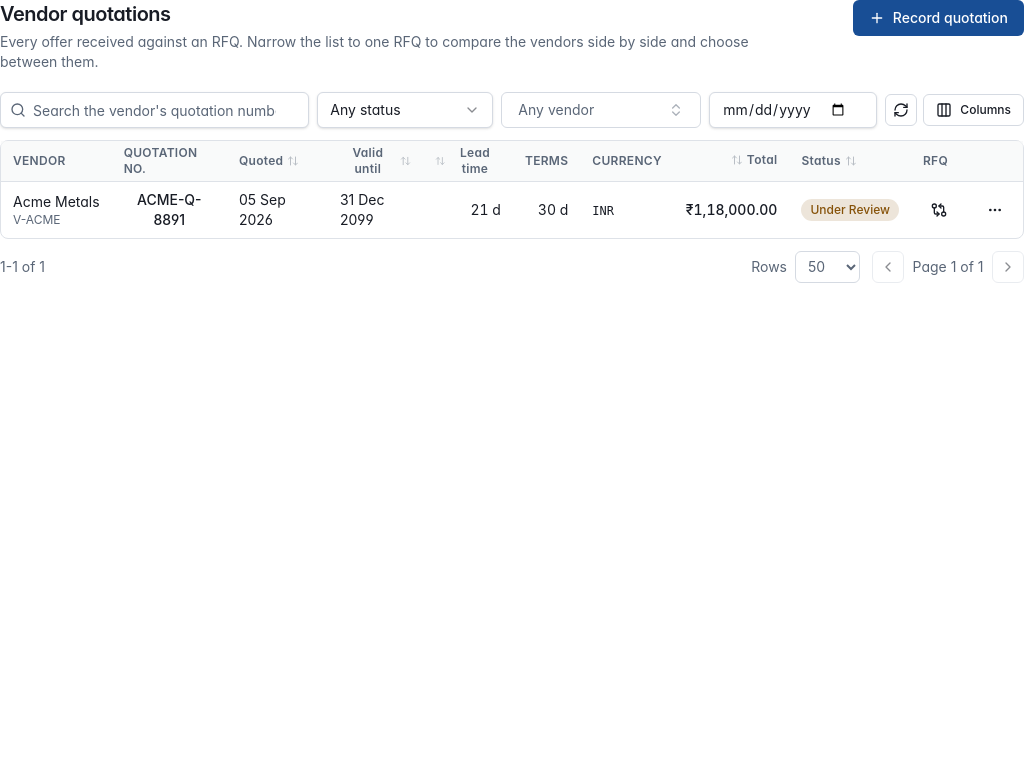
Test: the state machine decides which commands exist › offers the decision on an offer still in contention
The image size is (1024, 768).
Click the button "ACME-Q-8891" at (169, 210), box [124,190,215,230]
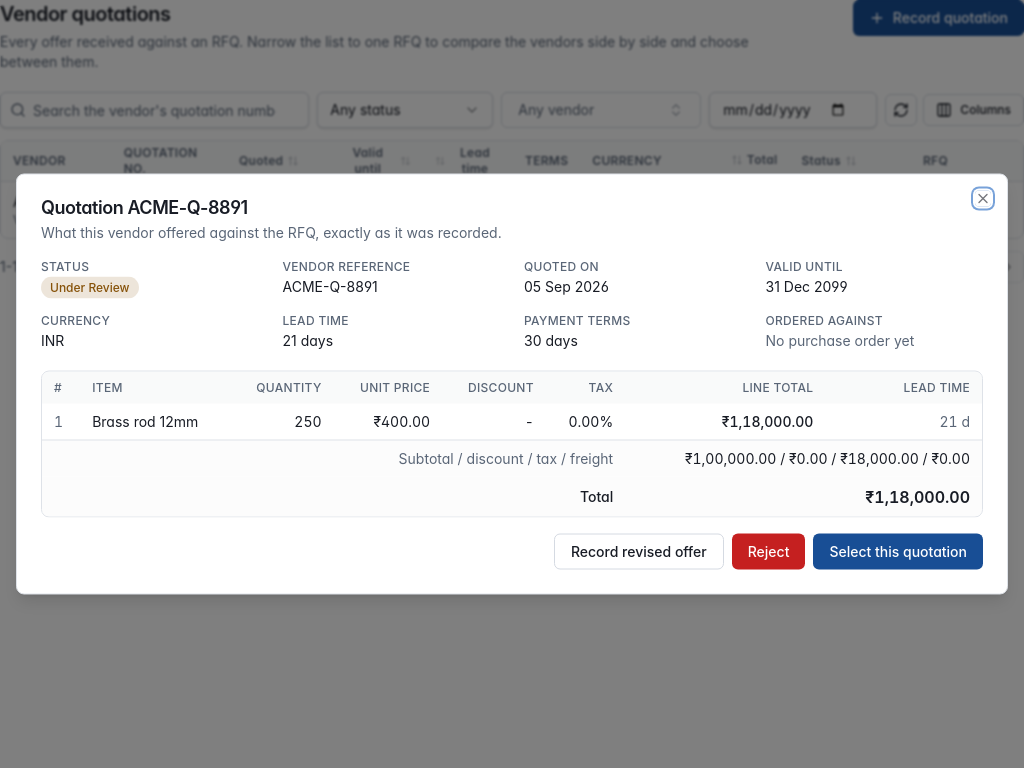
Result: the dialog is shown at [16,174,1008,594]
Result: the button "Select this quotation" is shown at [813,534,983,570]
